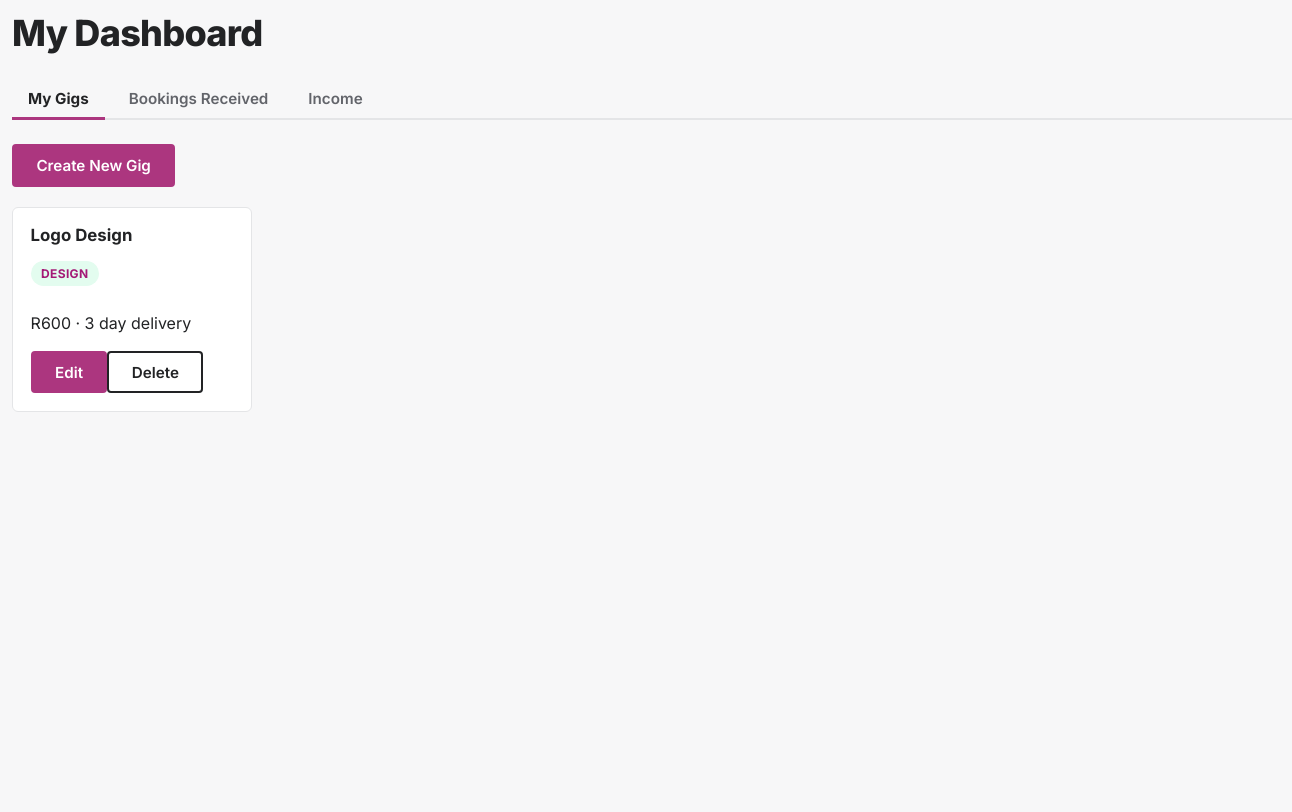
it: FreelancerDashboardPage editing a gig › opens the form filled with the gig details when Edit is clicked
Click the button "Edit".
click(69, 372)  # box [31, 351, 107, 394]
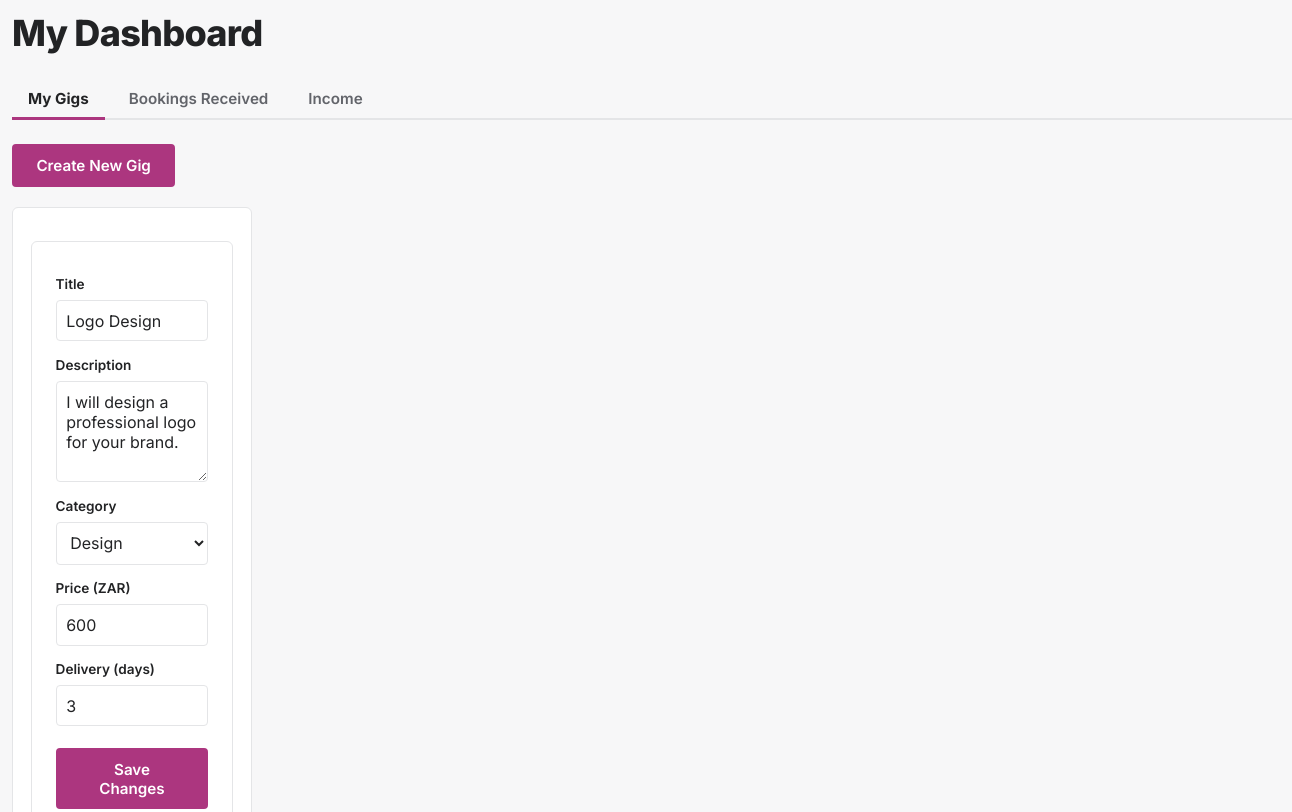
Check: the field labelled "Title" holds "Logo Design", box [56, 300, 208, 341]
Check: the number field labelled "Price (ZAR)" holds "600", box [56, 604, 208, 646]
Check: the button "Save Changes" is shown, box [56, 748, 208, 809]
